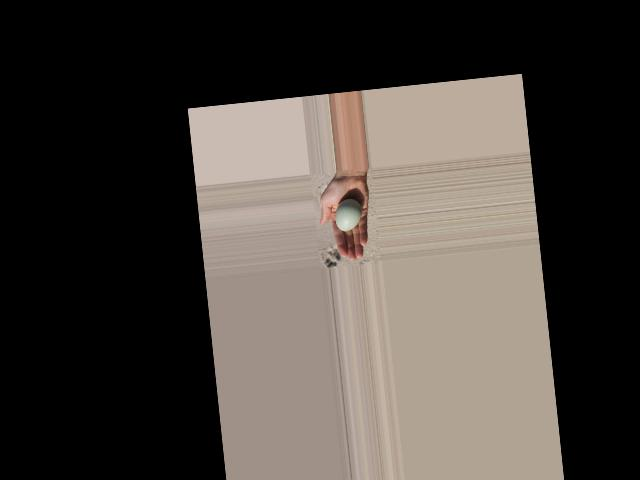egg: (334, 198, 364, 231)
